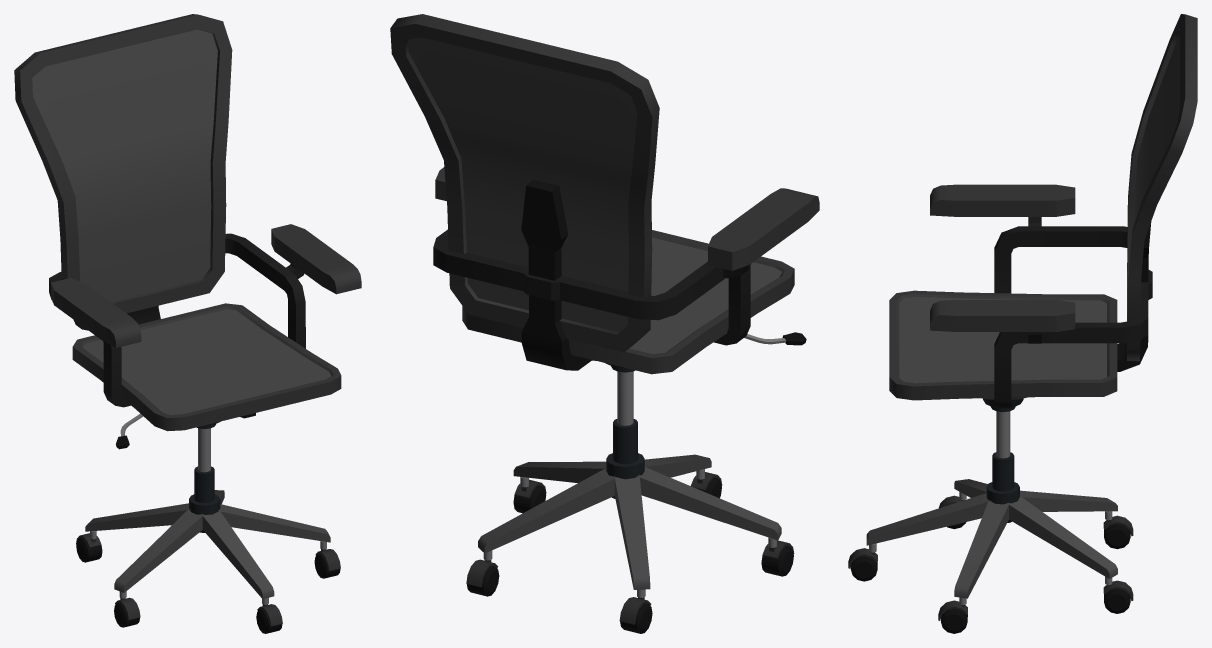
Rendered from EN_Chair_V01.fbx.
The picture shows the model from 3 angles, left to right: view 1: azimuth 30°, elevation 25°; view 2: azimuth 150°, elevation 25°; view 3: azimuth 270°, elevation 25°; orthographic projection. The views are drawn at different scales.
Visible parts, largest first — view 1: GEO_Chair; view 2: GEO_Chair; view 3: GEO_Chair.
Boxes of the visible parts, bbox=[...] form: GEO_Chair: bbox=[14, 14, 361, 633]; GEO_Chair: bbox=[390, 14, 819, 633]; GEO_Chair: bbox=[848, 14, 1197, 633].
Bounding box in the file's own units: 53.82 × 100 × 60.68.
1 material, 1 textured.
